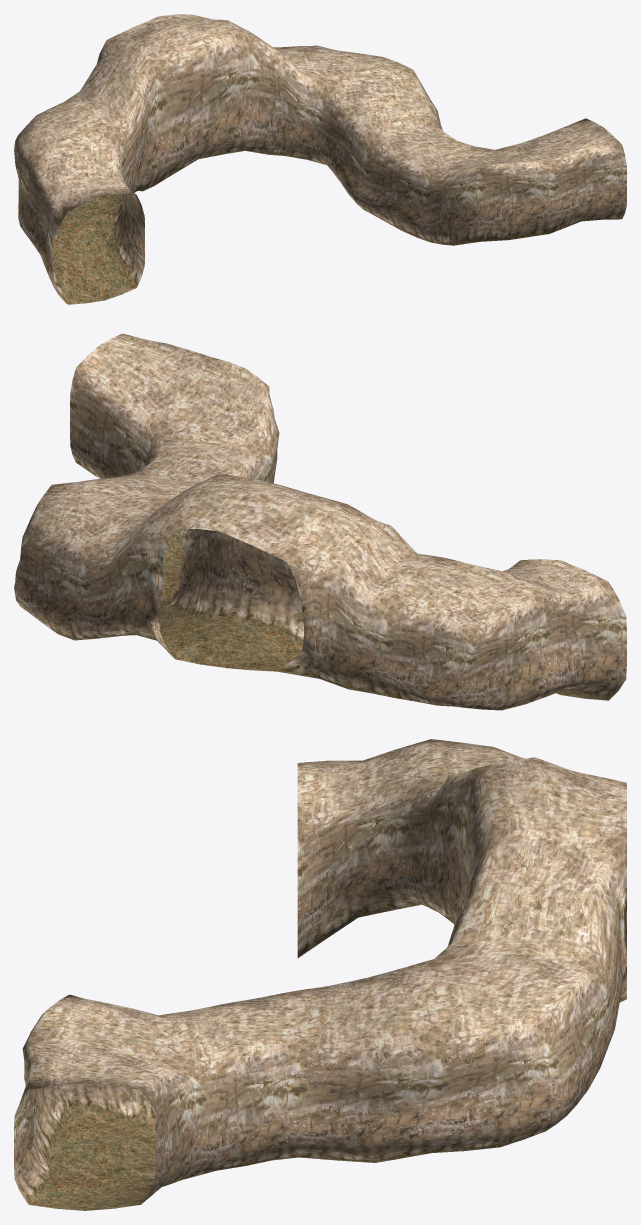
File: thm_all_cave_s03_r25_mesh_r25.fbx
3 renders of one model, top to bottom at view 1: azimuth 30°, elevation 25°; view 2: azimuth 150°, elevation 25°; view 3: azimuth 270°, elevation 25°, orthographic. The views are drawn at different scales.
Visible parts, largest first — view 1: mesh_node; view 2: mesh_node; view 3: mesh_node.
Part boxes in pixels (<box>): mesh_node: <box>14,14,626,304</box>; mesh_node: <box>14,333,626,710</box>; mesh_node: <box>14,739,626,1210</box>.
Size of the model in its own units: 48.48 by 17.17 by 34.59.
